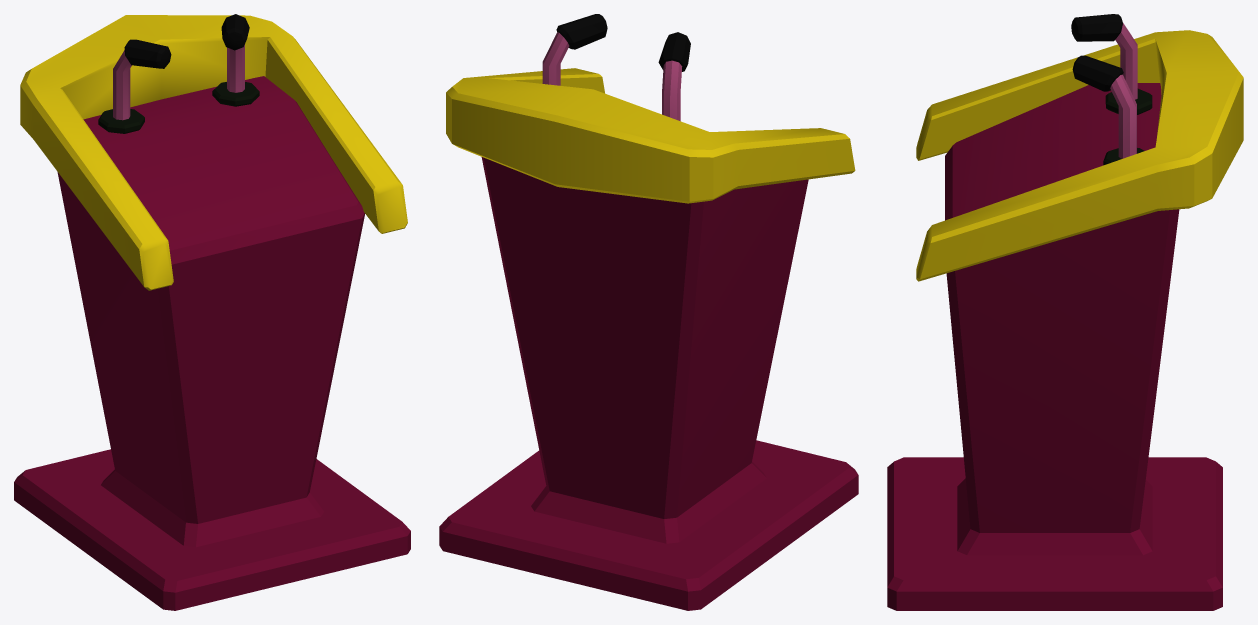
File: Tribune.FBX
3 views of the same model, side by side, from view 1: azimuth 30°, elevation 25°; view 2: azimuth 150°, elevation 25°; view 3: azimuth 270°, elevation 25° (orthographic). The views are drawn at different scales.
Parts seen in each view (by area): view 1: Tribune; view 2: Tribune; view 3: Tribune.
Boxes of the visible parts, bbox=[...] form: Tribune: bbox=[14, 14, 410, 610]; Tribune: bbox=[439, 14, 858, 610]; Tribune: bbox=[887, 14, 1243, 610].
Bounding box in the file's own units: 644 × 710 × 1119.
